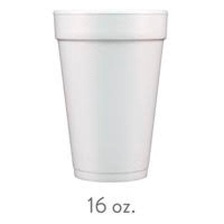paper_cup: (46, 2, 173, 185)
